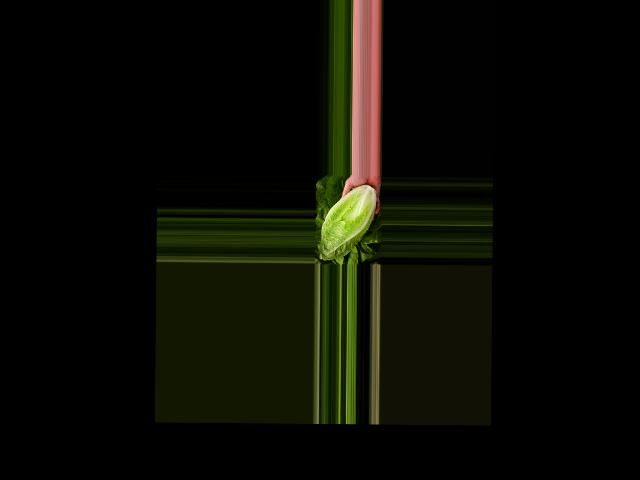lettuce: (318, 183, 378, 261)
